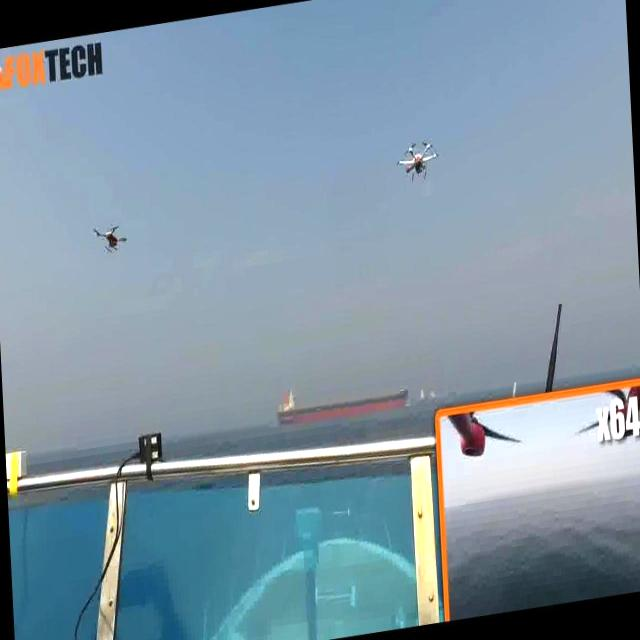drone: (394, 136, 440, 187), (90, 218, 131, 258)
